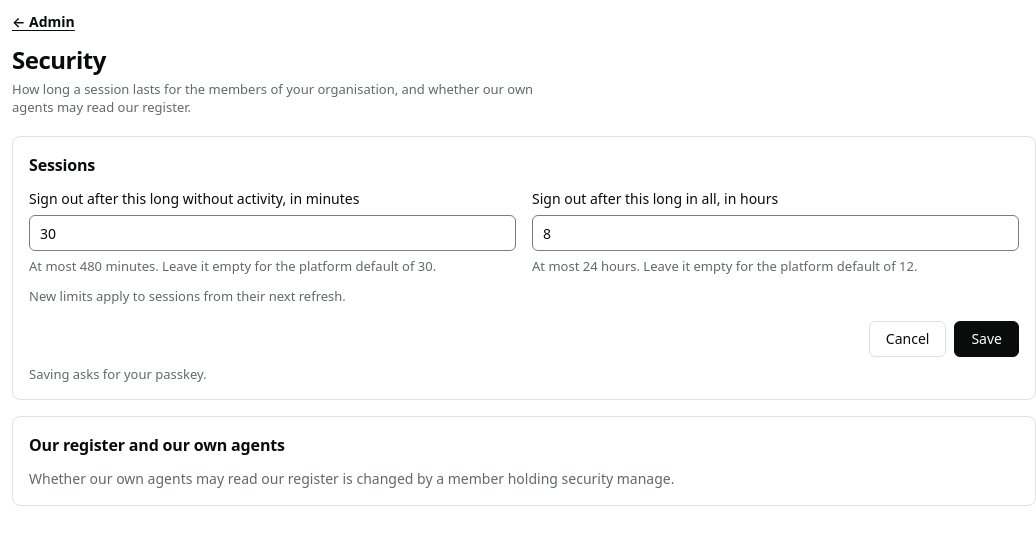
Test: the security page › refuses anything but a whole number of at least 1 before sending, and Cancel restores the limits in force
Step 1. Replace the text in the field labelled "Sign out after this long without activity, in minutes" with "0" → [272, 233], box [29,215,516,251]
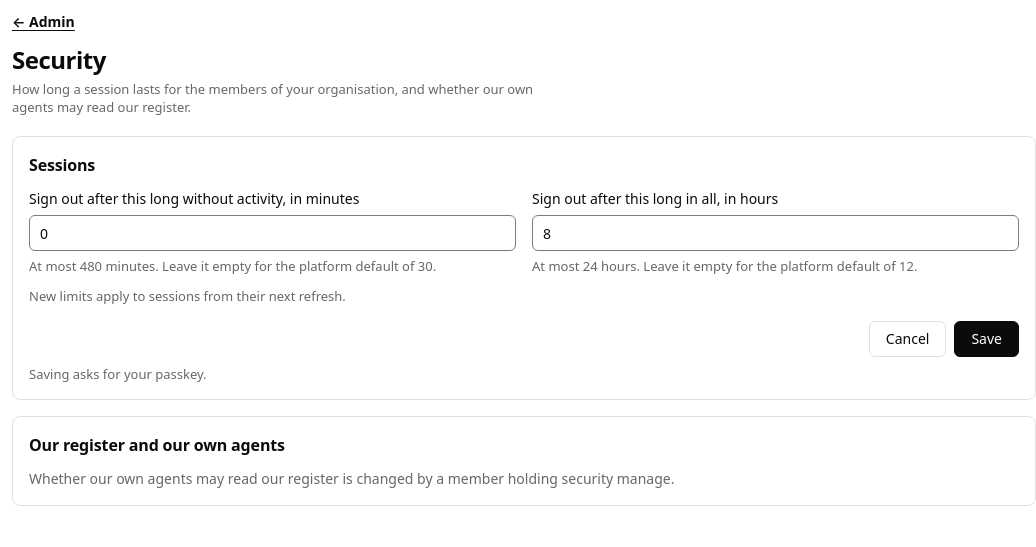
Step 2. Click the button "Save" → [987, 339], box [954,321,1019,357]
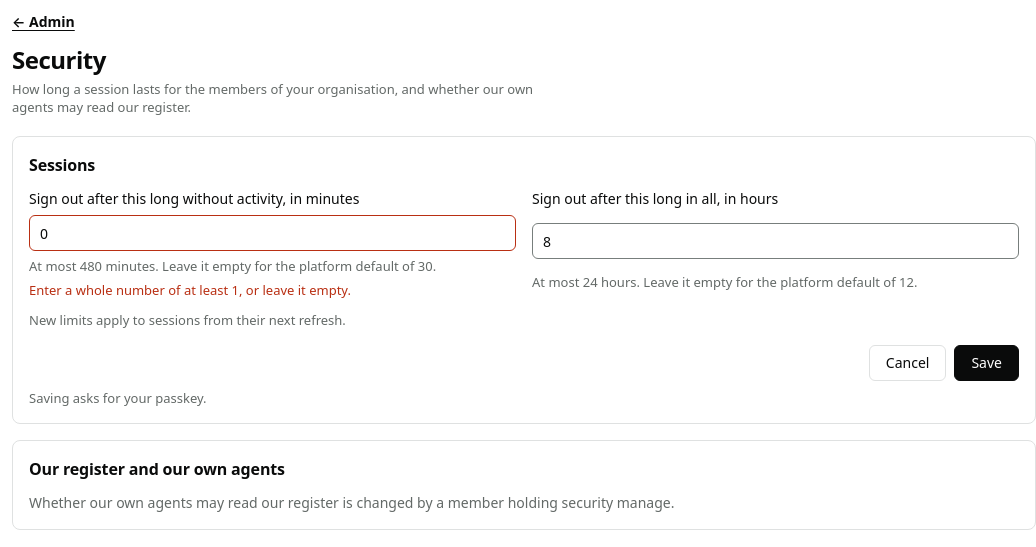
Check: the text "Enter a whole number of at least 1, or leave it empty." is shown, box [29,281,351,299]
Step 3. Click the button "Cancel" → [908, 363], box [869,345,946,381]
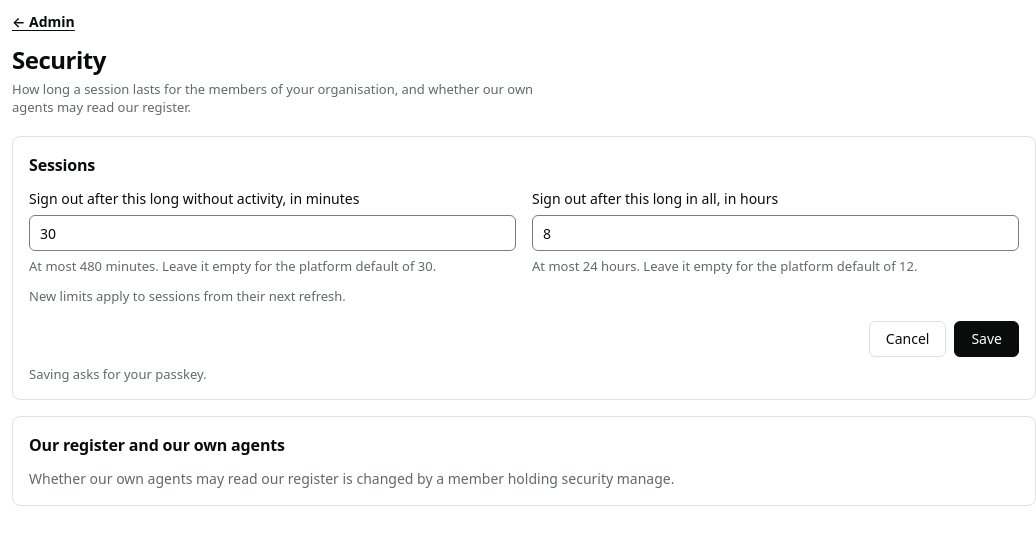
Check: the field labelled "Sign out after this long without activity, in minutes" holds "30", box [29,215,516,251]
Check: the text "Enter a whole number of at least 1, or leave it empty." is gone
